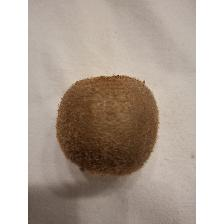Kiwi: (53, 73, 161, 179)
